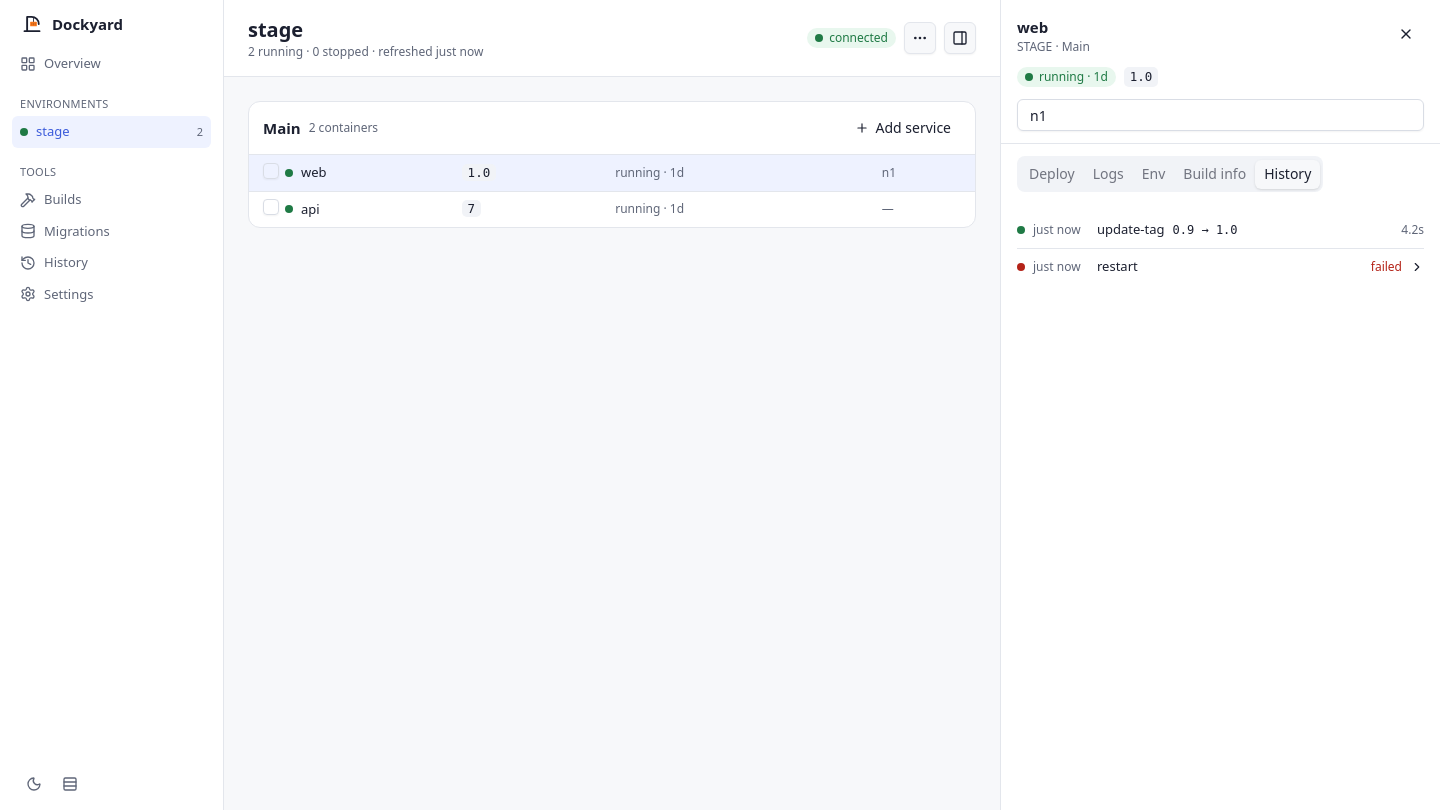
Test: ContainerDrawer › shows an error toast and keeps the typed text when saving the note fails (I-5)
Replace the text in the field named "note" with "release 16.4" at coordinates (1220, 115), box top-left (1017, 99), bottom-right (1424, 131)
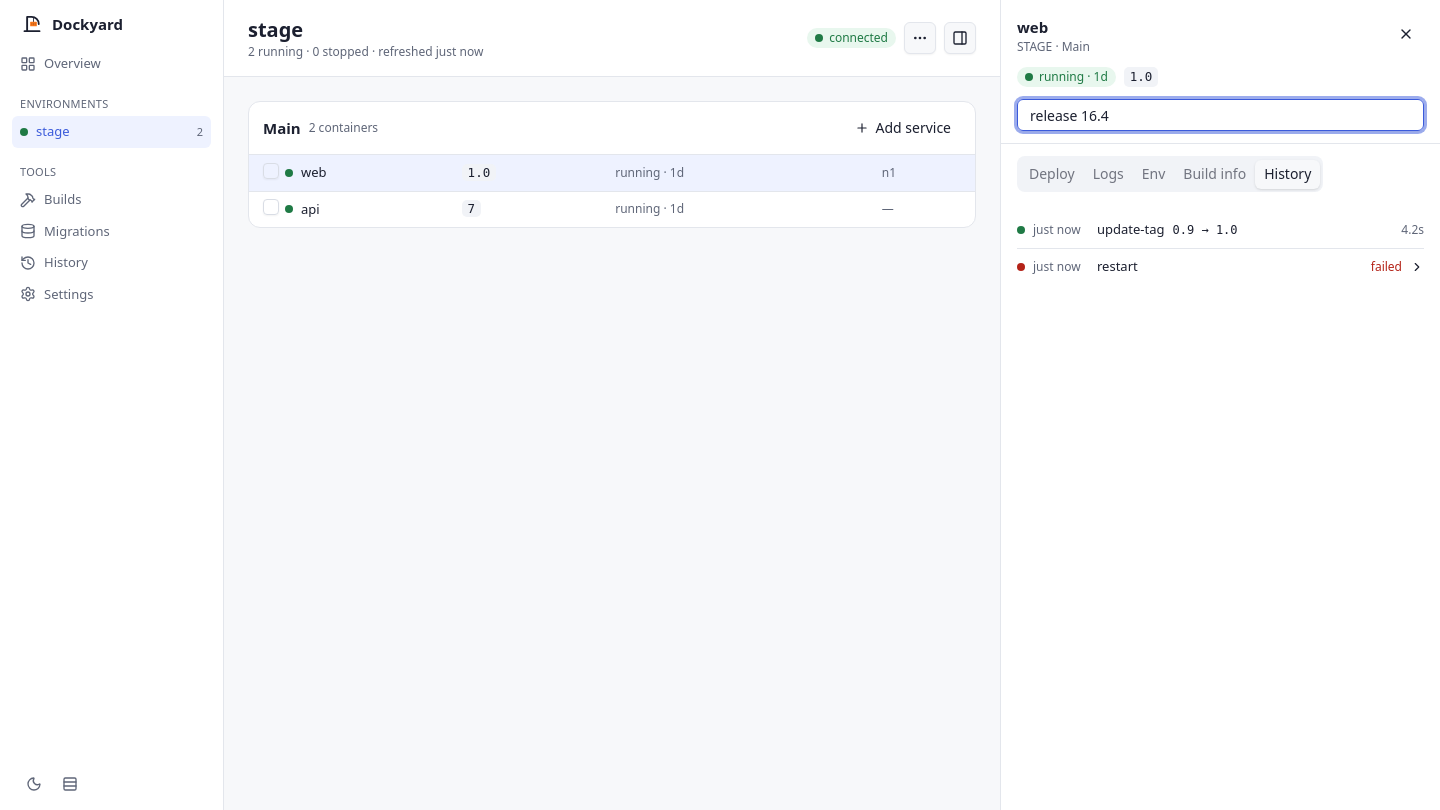
Press Tab
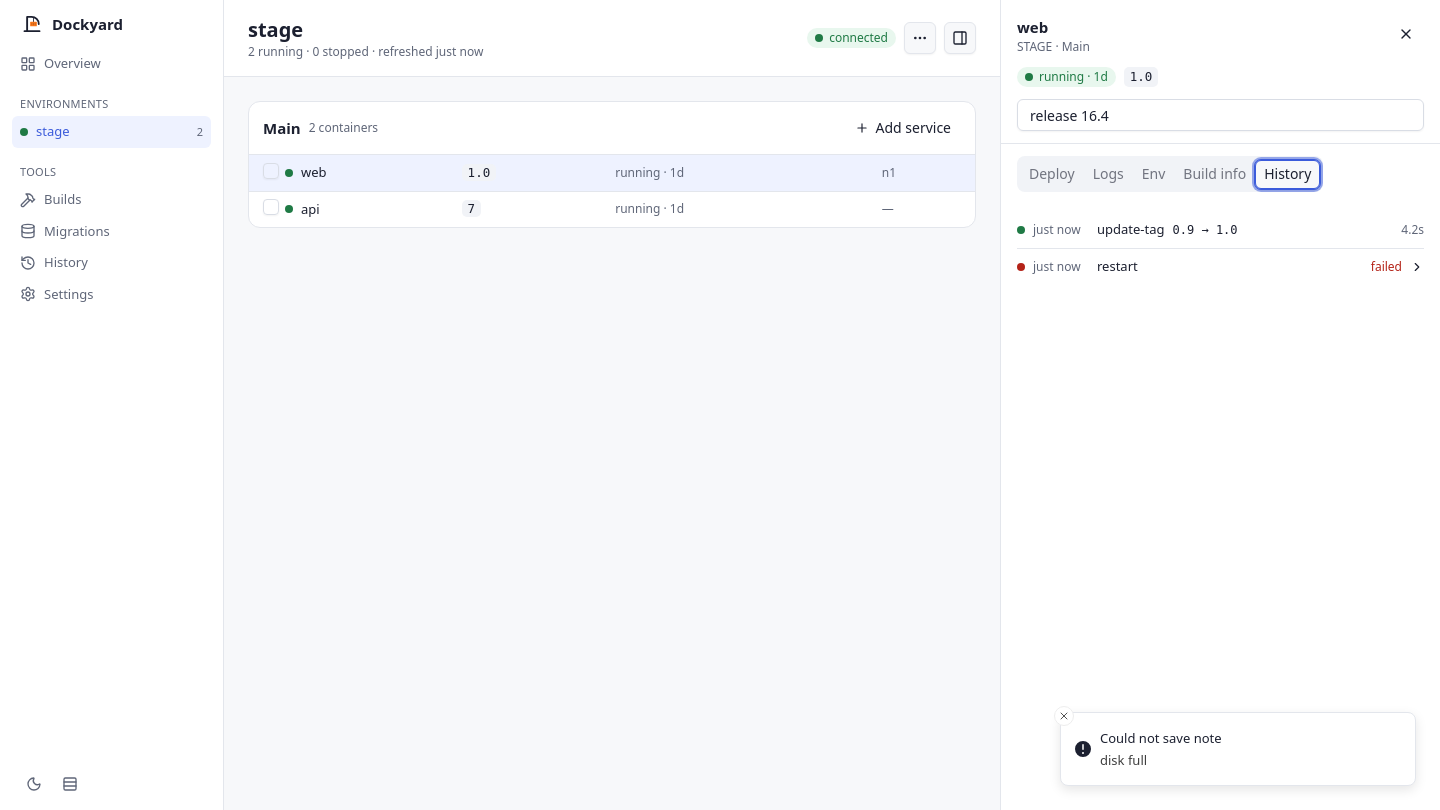
expect the text "Could not save note" is shown: met, box top-left (1100, 729), bottom-right (1222, 749)
expect the text "disk full" is shown: met, box top-left (1100, 751), bottom-right (1147, 769)
